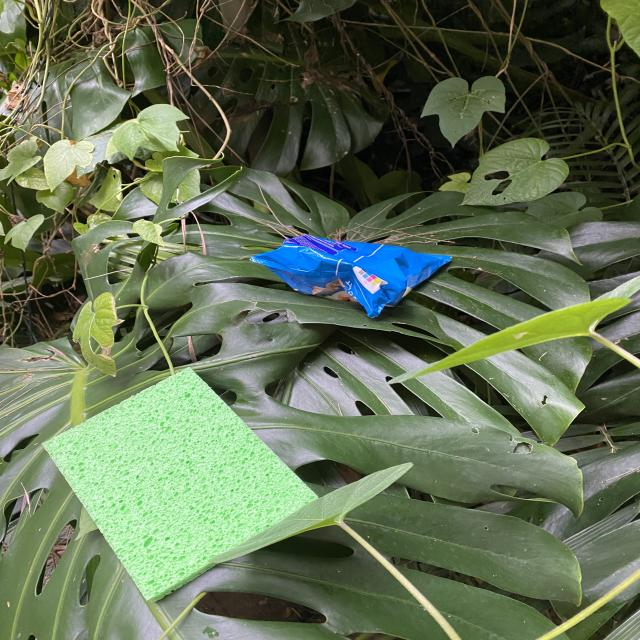bag: (250, 234, 452, 318)
sponge: (42, 366, 319, 601)
